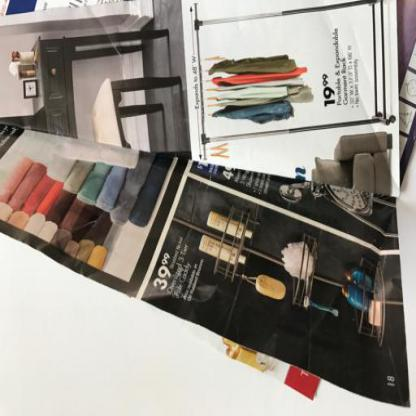paper: (0, 122, 410, 408), (0, 0, 400, 200), (151, 282, 323, 400), (392, 0, 415, 192)
